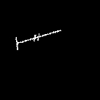treble_crochet: (16, 30, 60, 49)
